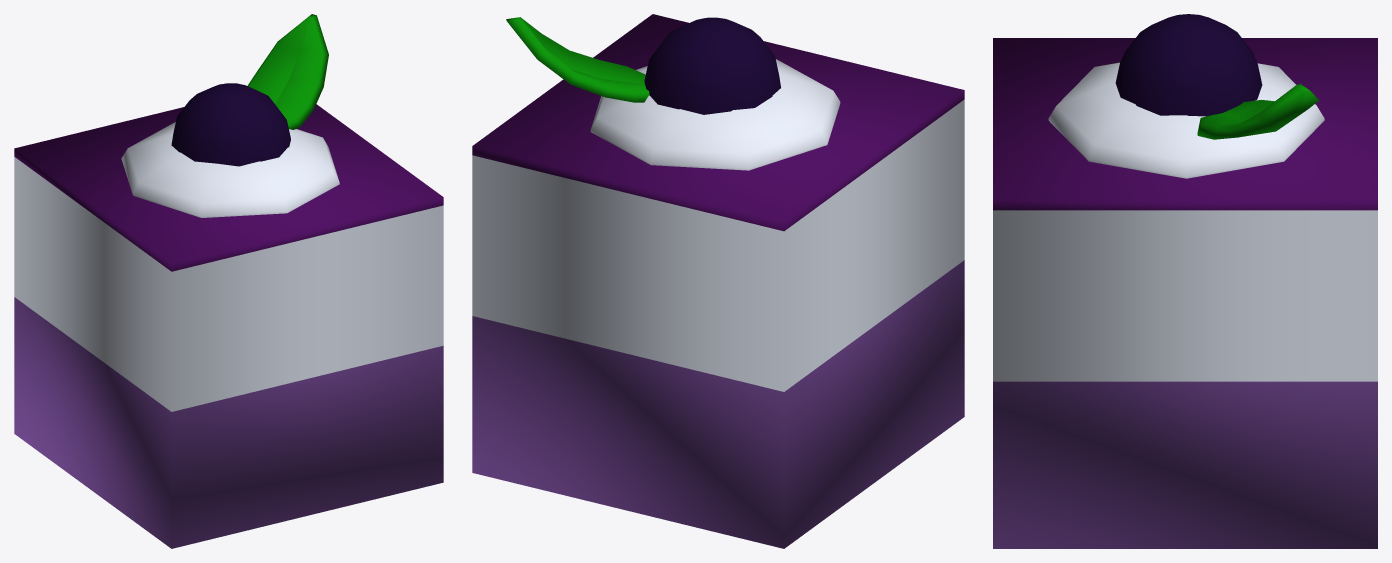
The model's file is cake_violet_1.fbx.
3 views of the same model, side by side, from view 1: azimuth 30°, elevation 25°; view 2: azimuth 150°, elevation 25°; view 3: azimuth 270°, elevation 25° (orthographic). The views are drawn at different scales.
Parts seen in each view (by area): view 1: 立方体.042; view 2: 立方体.042; view 3: 立方体.042.
Boxes of the visible parts, x1=… form: 立方体.042: x1=14, y1=14, x2=443, y2=548; 立方体.042: x1=472, y1=14, x2=964, y2=548; 立方体.042: x1=993, y1=14, x2=1377, y2=548.
Bounding box in the file's own units: 14.6 × 19.22 × 14.6.
